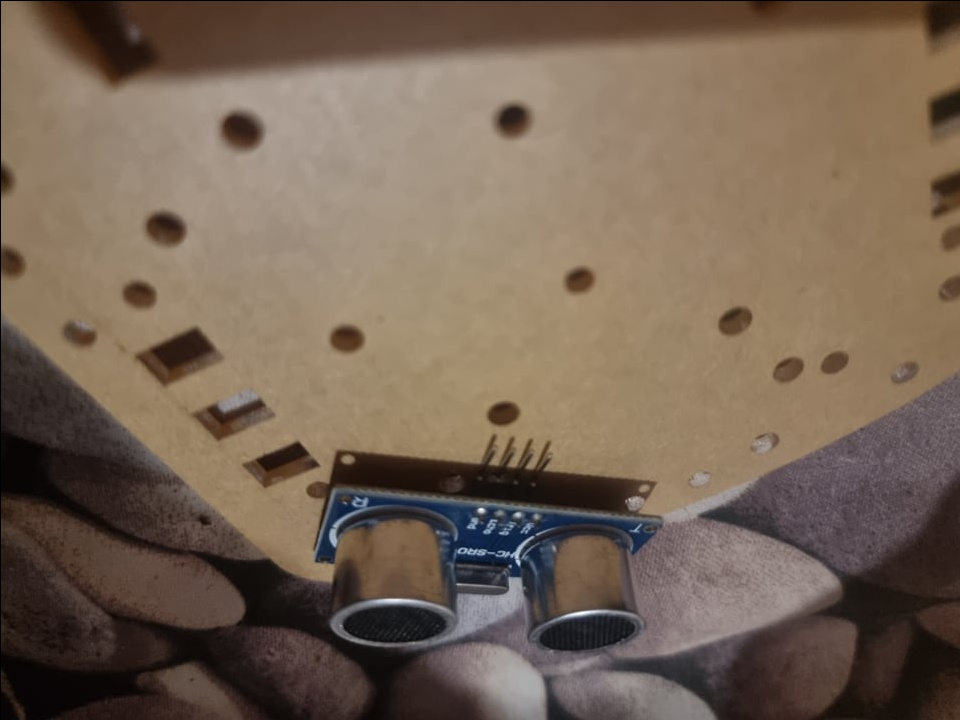SENSOR: (309, 482, 664, 657)
